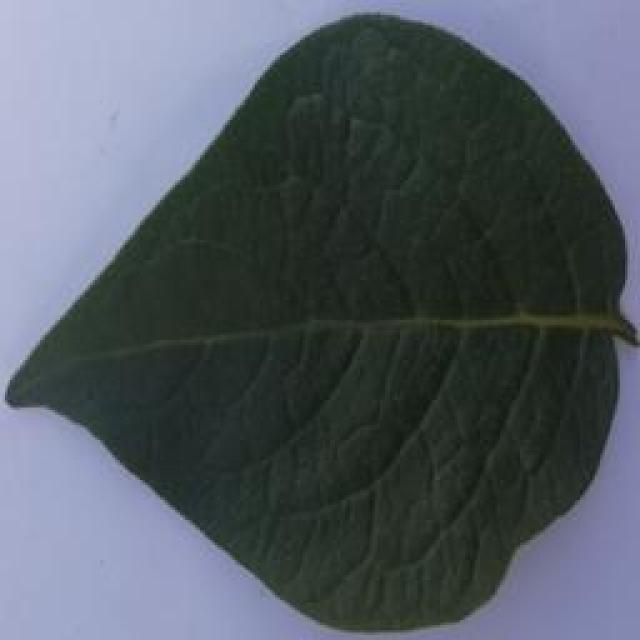Potato_Healthy: (7, 12, 624, 628)
